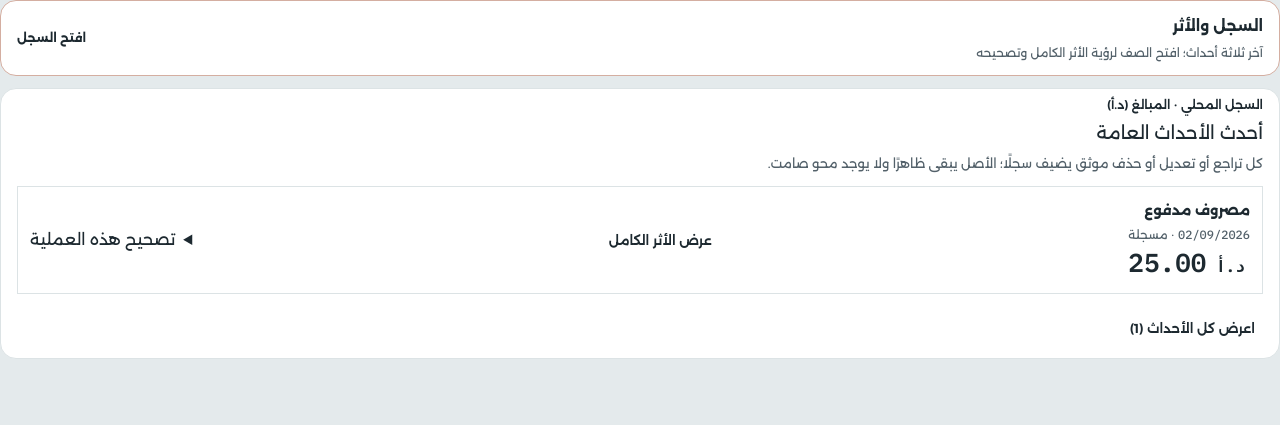
Test: EventsLayer shows the owner's category label (المجموعة ١) › renders تصنيفك with the label inside the expanded event detail
This screenshot has width=1280, height=425.
Click the button with class "micro-finance-event-toggle" at (660, 240), box [601,218,720,262]
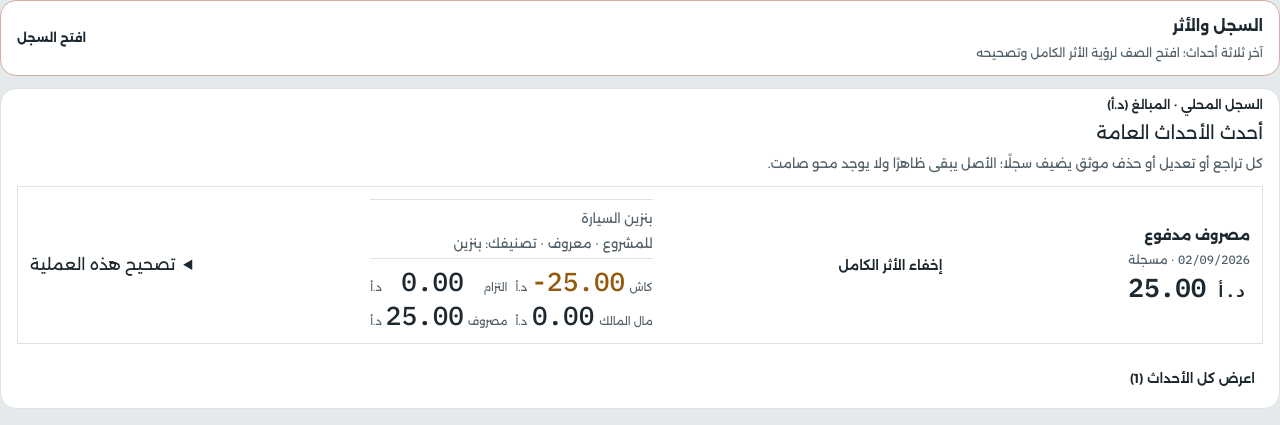
Check: the text "للمشروع · معروف · تصنيفك: بنزين" is shown, box [453,235,653,251]
